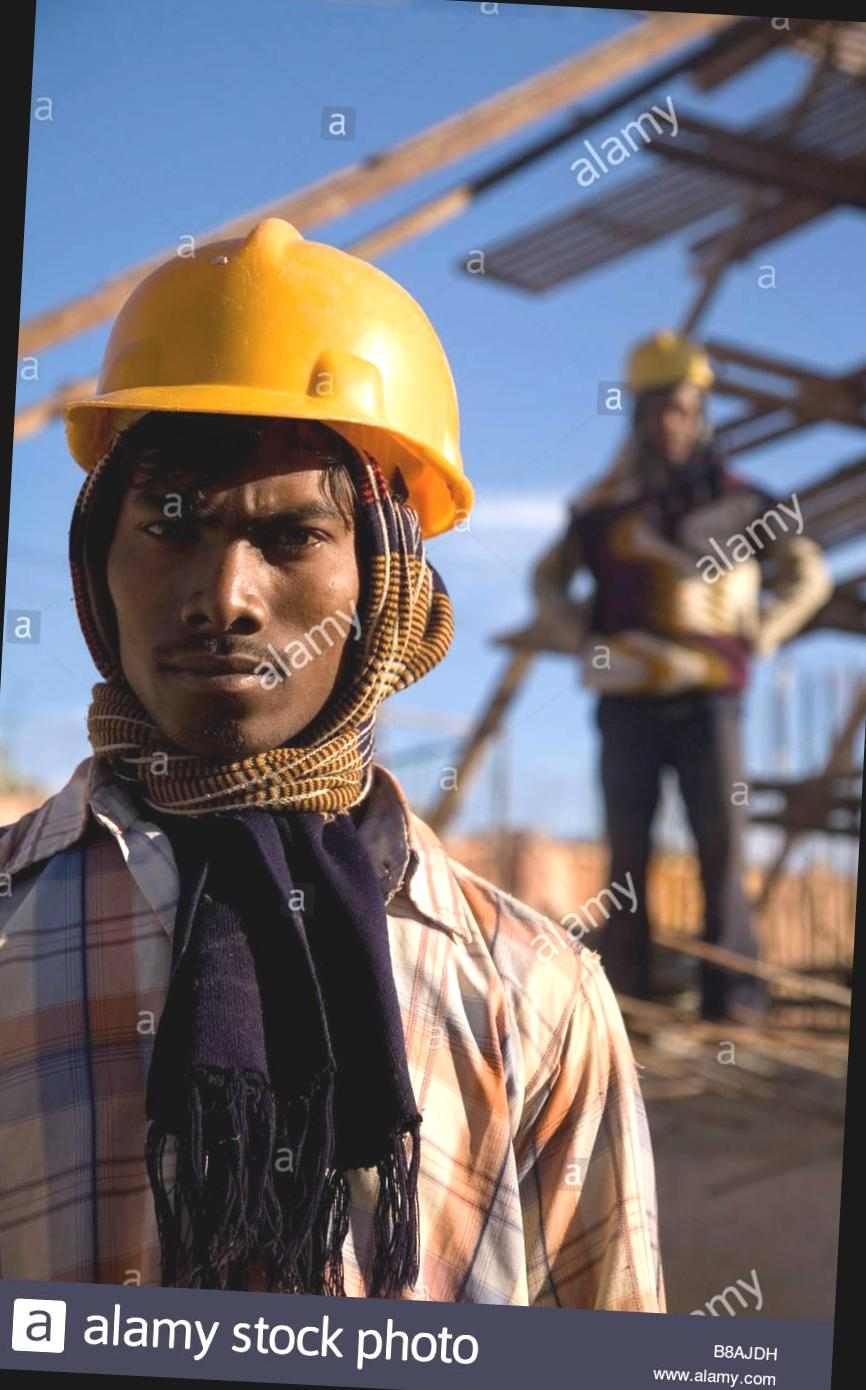helmet: (42, 200, 479, 536), (584, 303, 714, 409)
no_vest: (0, 757, 719, 1309), (518, 424, 803, 718)
person: (0, 183, 688, 1286), (486, 324, 866, 1046)
